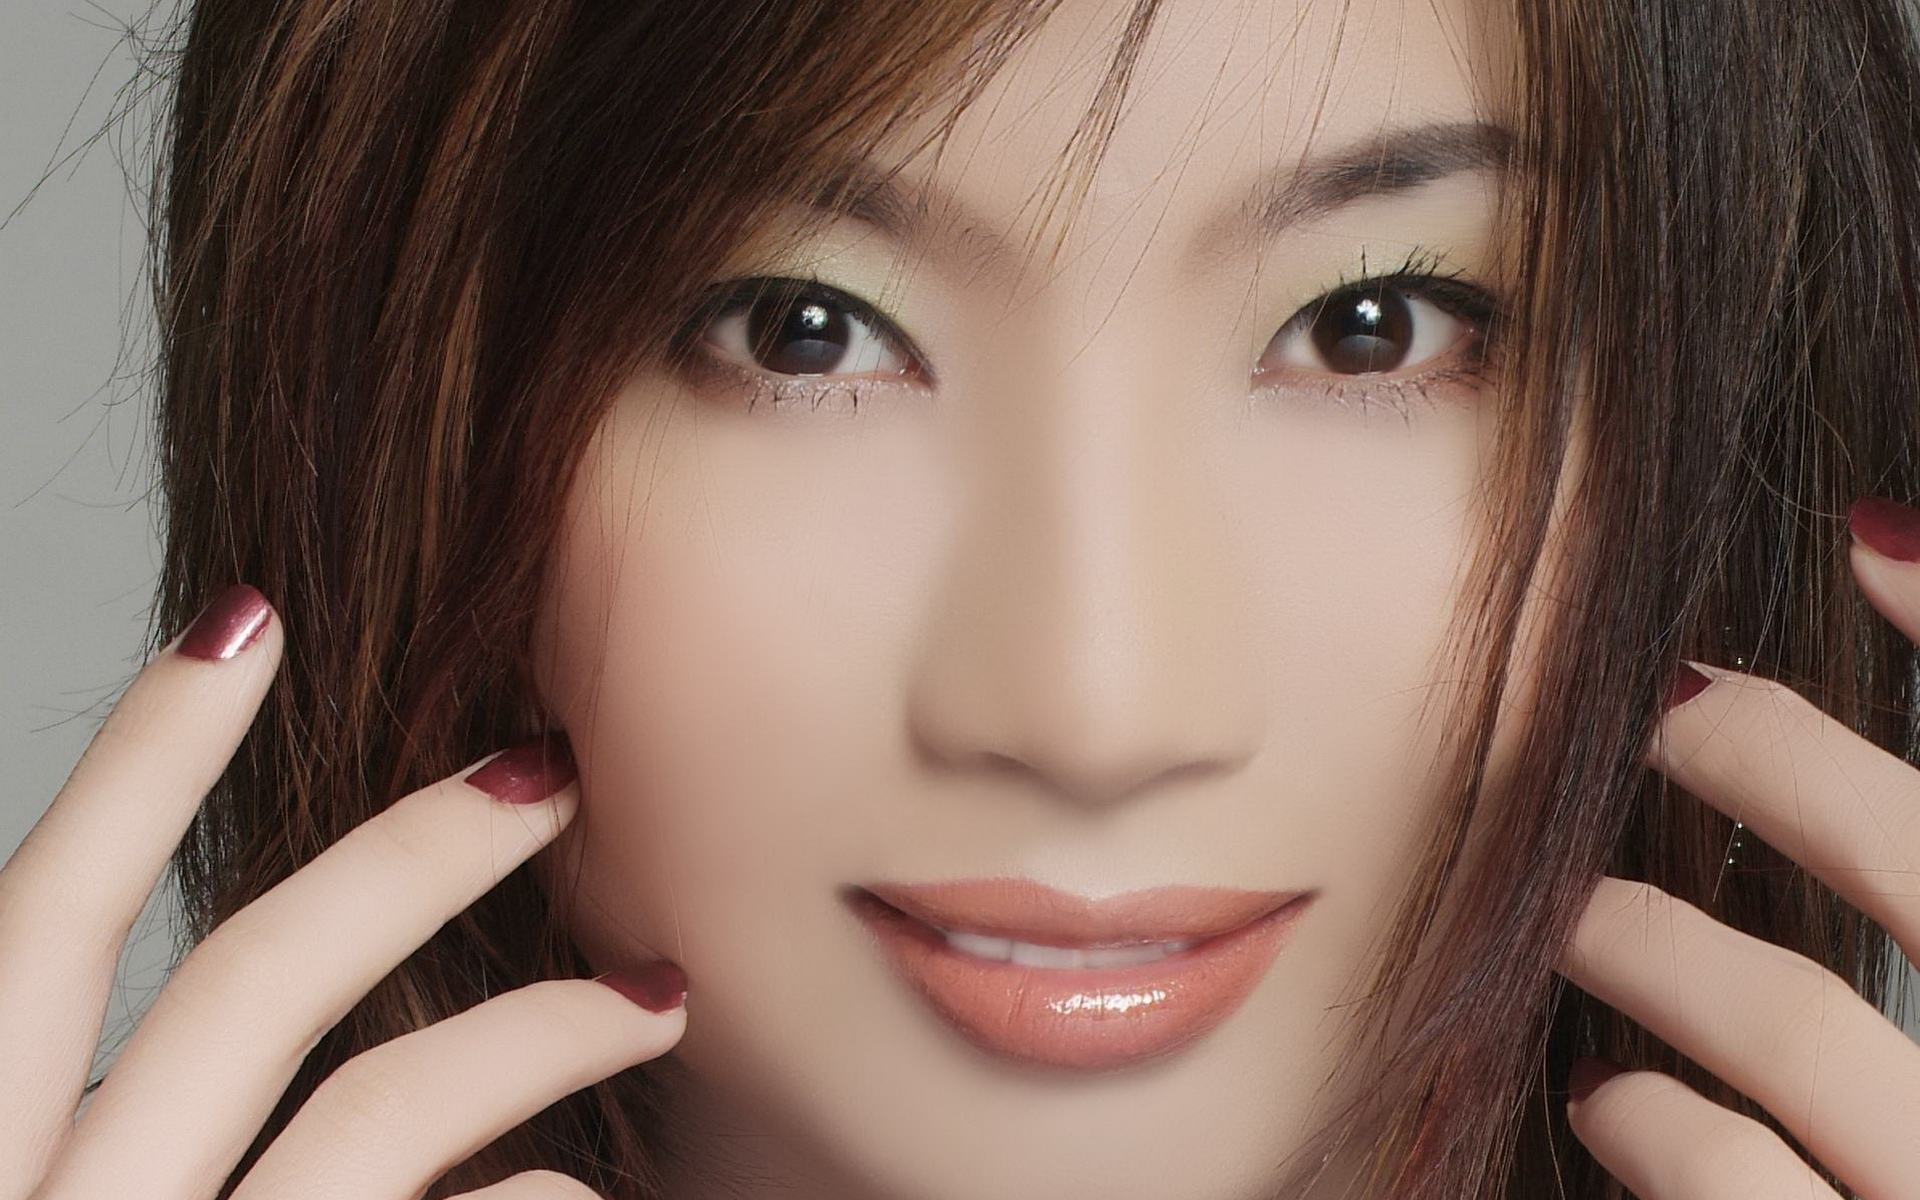person: (130, 56, 1801, 1199)
